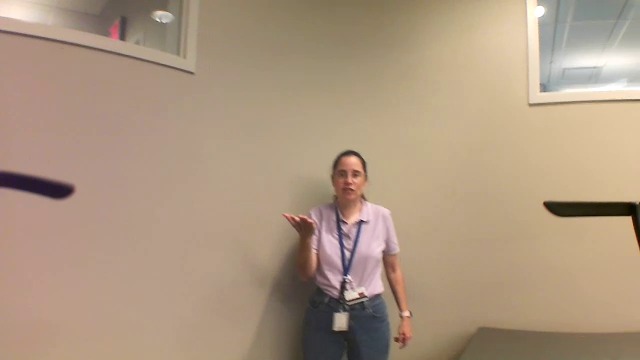land: (268, 198, 322, 252)
